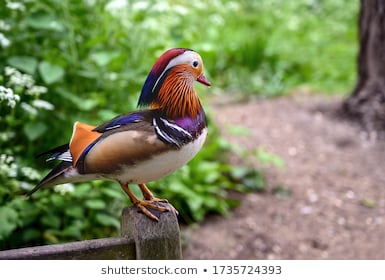duck: (29, 37, 239, 240)
